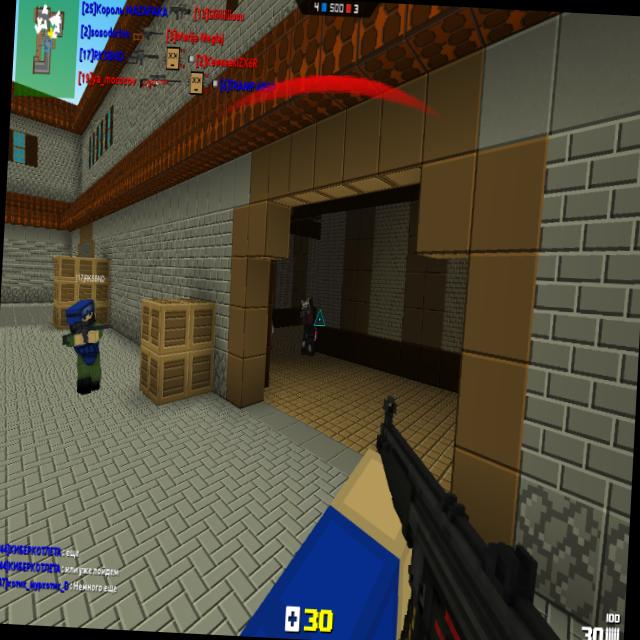enemy: (297, 298, 318, 356)
